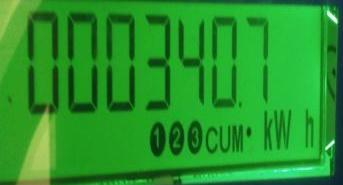.: (260, 110, 316, 157)
0: (237, 100, 245, 109)
1: (25, 12, 61, 113), (65, 13, 101, 113), (103, 13, 137, 114), (209, 16, 240, 109)
4: (143, 14, 175, 109)
5: (175, 16, 208, 109)
8: (244, 16, 274, 110)
